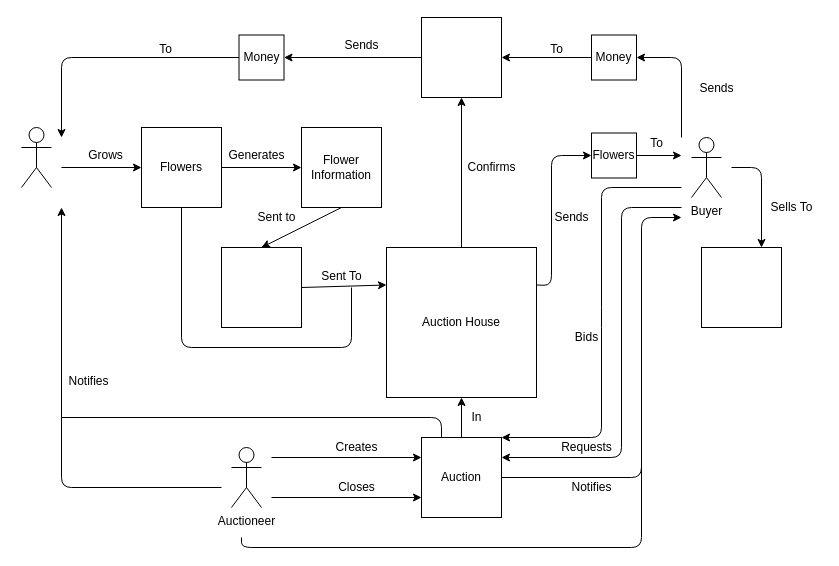
Image size: 839x566. Some labels were removed from this diagram. Each missing label, with the centre of its shape:
"Bank" belongs at (x=461, y=57).
"Flower Information Database" belongs at (x=261, y=287).
"Grower" belongs at (x=36, y=157).
"Retailer" belongs at (x=741, y=287).
